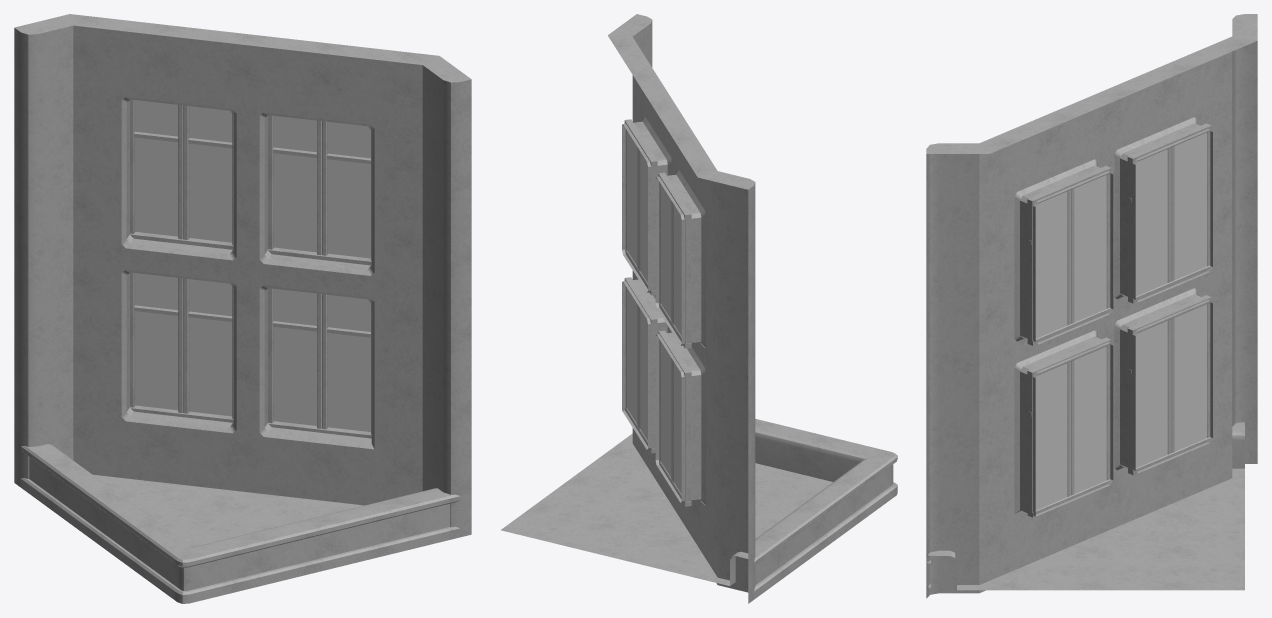
The model's file is SM_Wall5.fbx.
3 views of the same model, side by side, from view 1: azimuth 30°, elevation 25°; view 2: azimuth 150°, elevation 25°; view 3: azimuth 270°, elevation 25° (orthographic). The views are drawn at different scales.
Visible parts, largest first — view 1: SM_Wall5_LOD0; view 2: SM_Wall5_LOD0; view 3: SM_Wall5_LOD0.
Part boxes in pixels (left/top/right/bottom): SM_Wall5_LOD0: left=14, top=14, right=471, bottom=603; SM_Wall5_LOD0: left=501, top=14, right=897, bottom=603; SM_Wall5_LOD0: left=926, top=14, right=1257, bottom=598.
Bounding box in the file's own units: 400 × 400 × 600.
